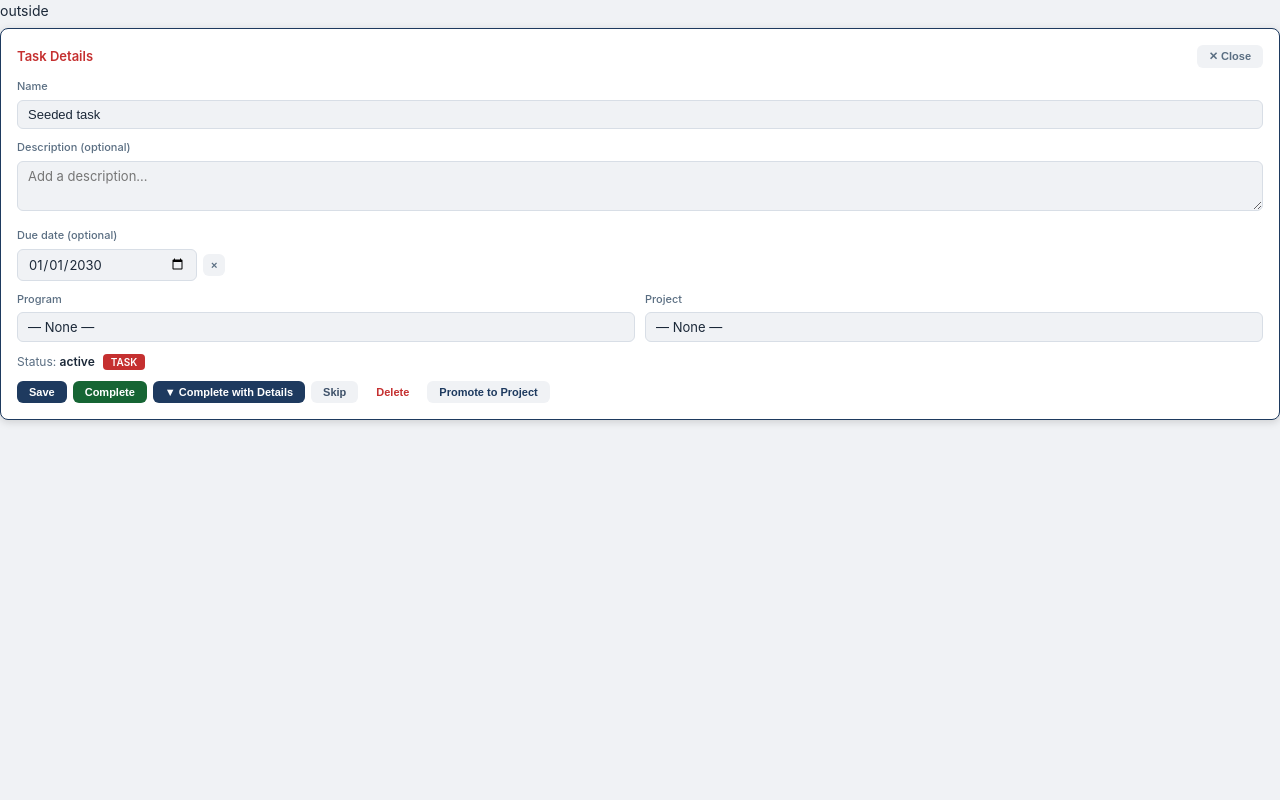
useInlineTask — inline task panel dirty-state close guard (Task 9.14) › dirty Esc opens the DiscardConfirmDialog
Expected: the text "Task Details" is shown, [17,46,93,67]
Replace the text in the field named "Task name" with "Seeded task edited" at (640, 114), box [17,100,1263,129]
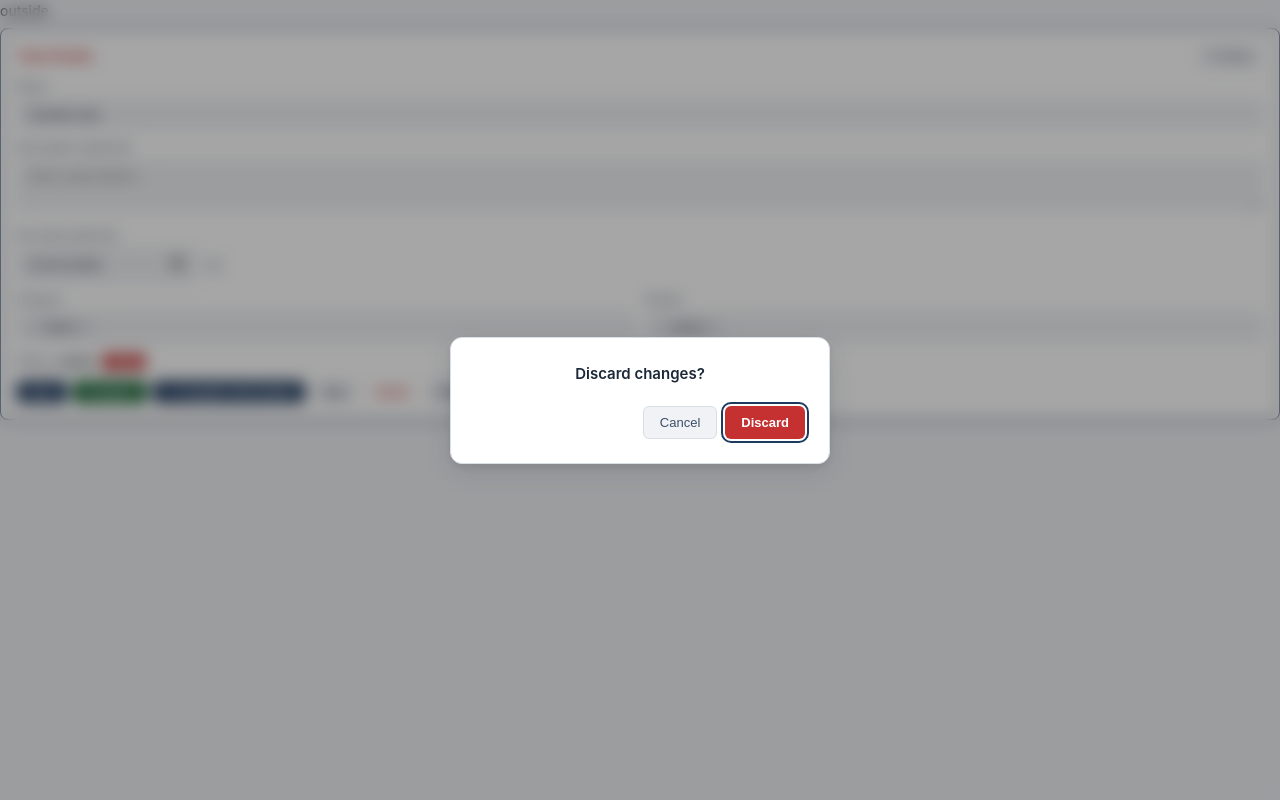
Expected: the dialog "Discard changes? Cancel Discard" is shown, [450,336,830,464]
